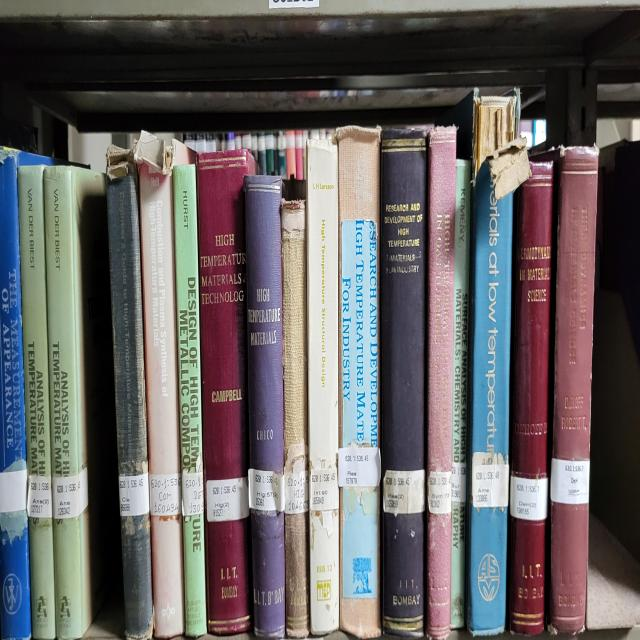Book: (44, 165, 118, 639), (198, 149, 255, 633), (135, 133, 184, 636), (550, 146, 599, 633), (106, 146, 154, 639), (336, 127, 381, 636), (381, 130, 426, 636), (466, 162, 512, 636), (510, 162, 554, 633), (0, 149, 42, 639), (244, 173, 285, 639), (18, 165, 56, 639), (306, 141, 339, 633), (172, 165, 206, 636), (426, 127, 456, 639), (281, 200, 310, 636), (450, 160, 471, 628)
Label: (471, 452, 509, 509), (206, 476, 249, 522), (384, 468, 425, 514), (510, 473, 548, 522), (550, 457, 590, 503), (338, 446, 381, 487), (249, 468, 284, 511), (149, 473, 181, 517), (119, 473, 150, 517), (52, 473, 80, 519), (0, 468, 28, 514), (310, 468, 339, 511), (284, 471, 309, 514), (181, 471, 204, 517), (28, 473, 52, 517), (428, 471, 451, 514), (451, 463, 466, 503)
